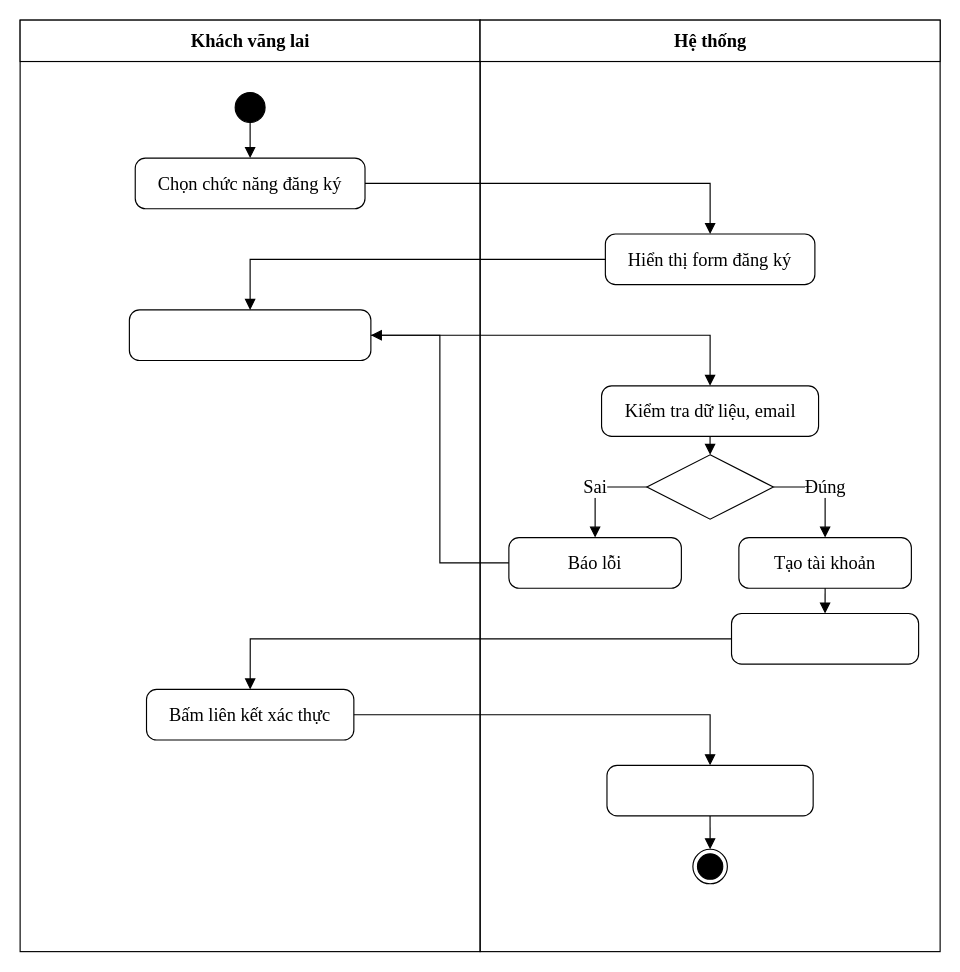
The diagram is 960 pixels wide and 972 high, and some of its shapes have lost their labels. The shapes that lost their labels are listed below. From the top down, each one's centre as x and y in pixels, then its label:
At [249,335]: "Nhập họ tên, email, mật khẩu".
At [709,486]: "Hợp lệ?".
At [824,638]: "Gửi email xác thực".
At [709,790]: "Đánh dấu đã xác thực".
